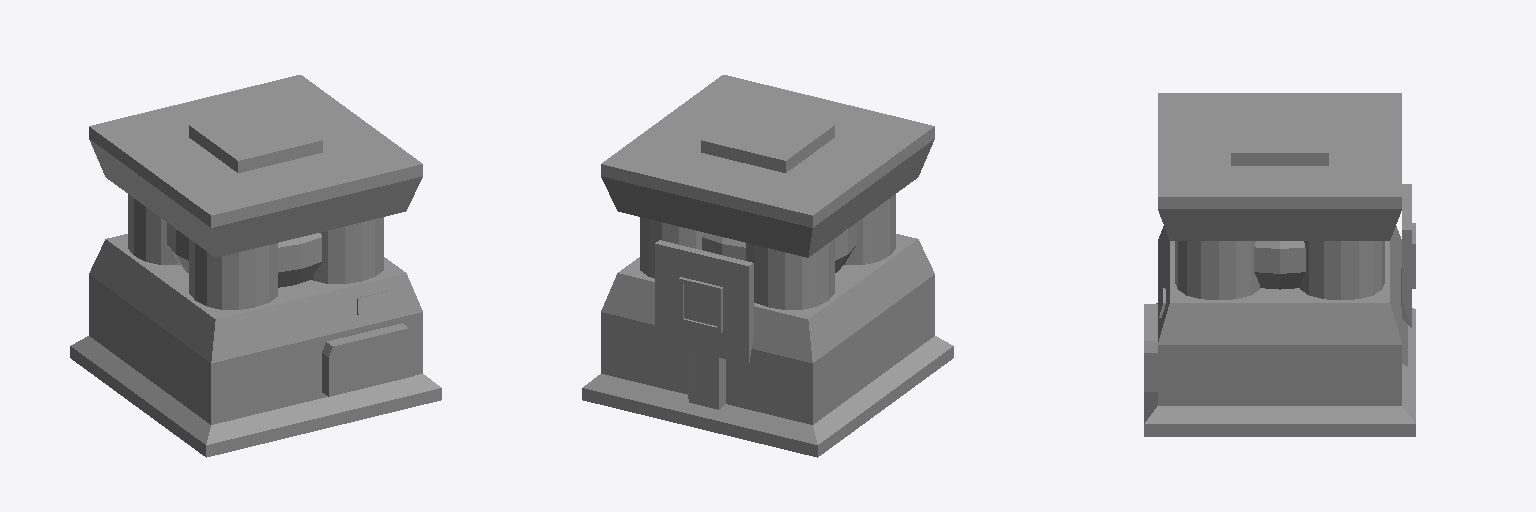
File: Crusher.obj
3 renders of one model, left to right at view 1: azimuth 30°, elevation 25°; view 2: azimuth 150°, elevation 25°; view 3: azimuth 270°, elevation 25°, orthographic.
Parts seen in each view (by area): view 1: Crusher; view 2: Crusher; view 3: Crusher.
Part boxes in pixels (bbox=[...]): Crusher: bbox=[70, 75, 441, 457]; Crusher: bbox=[582, 75, 953, 457]; Crusher: bbox=[1144, 93, 1415, 436].
Size of the model in its own units: 2 by 2 by 2.